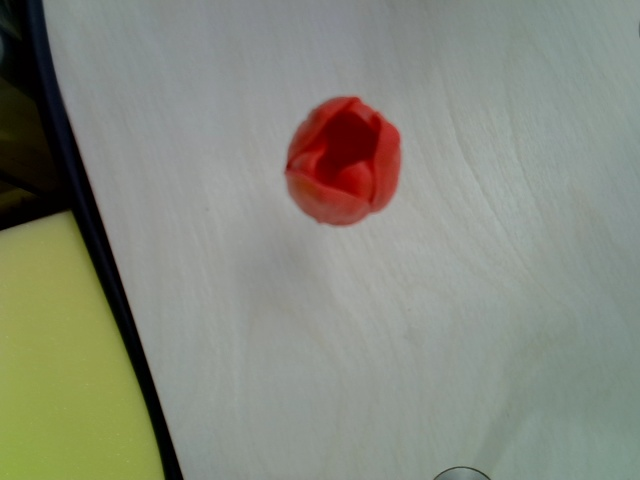튤립: (281, 96, 402, 226)
